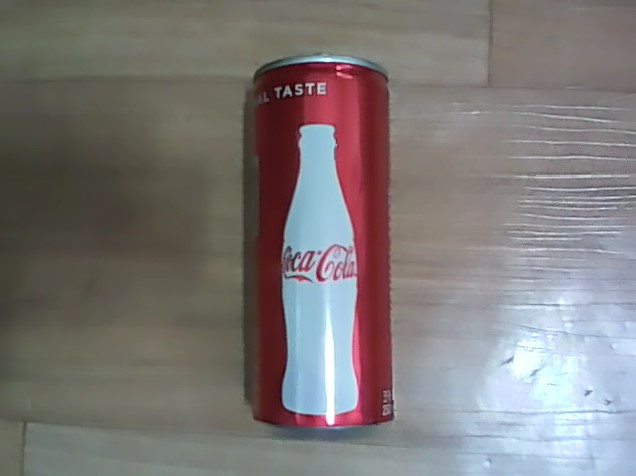Can: (235, 42, 404, 448)
